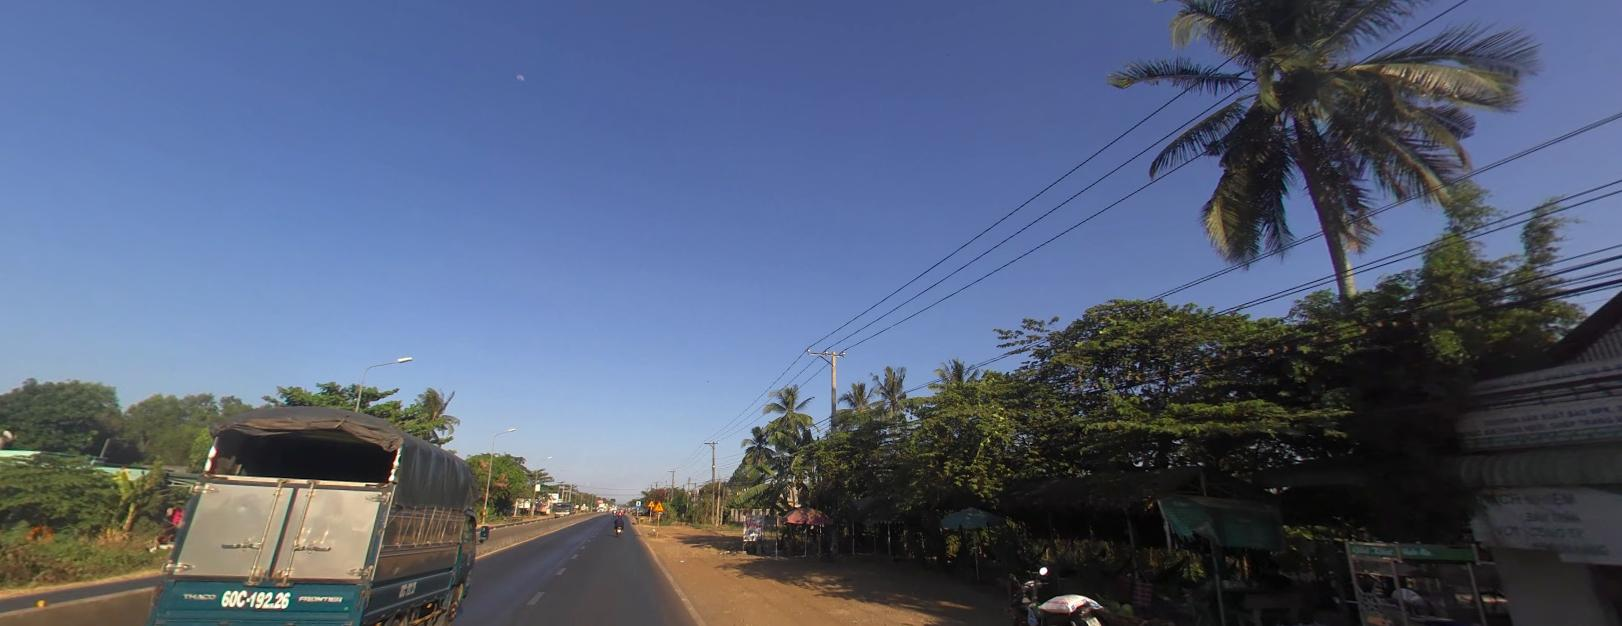Nguy hiem: (653, 500, 664, 510), (645, 499, 655, 506)
